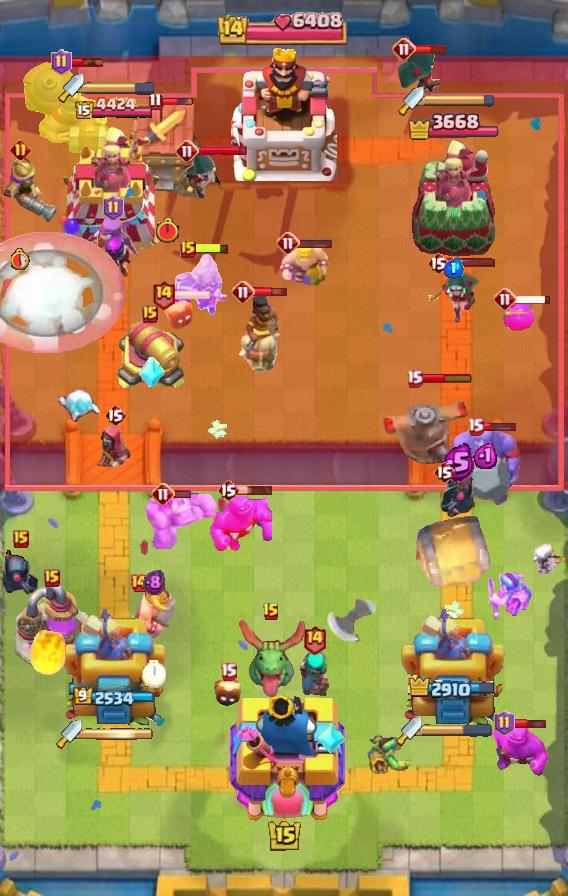axe: (327, 596, 383, 652)
bandit: (428, 267, 480, 327), (180, 148, 224, 202), (397, 46, 443, 94)
bar: (197, 144, 248, 157), (420, 372, 473, 384), (446, 257, 496, 268), (194, 242, 230, 255), (512, 717, 547, 730), (253, 285, 288, 298), (237, 484, 274, 496), (174, 289, 211, 301), (297, 237, 333, 249), (69, 56, 105, 68), (482, 420, 517, 432), (515, 294, 552, 305), (413, 44, 447, 55), (160, 97, 194, 107), (173, 489, 192, 499)
bar-level: (302, 624, 327, 655), (151, 279, 176, 310), (151, 482, 175, 506), (493, 287, 517, 311), (231, 280, 255, 304), (276, 231, 300, 255), (175, 139, 199, 163), (392, 37, 416, 61), (494, 710, 515, 736), (103, 195, 124, 221), (51, 49, 72, 75), (217, 478, 239, 502), (433, 460, 455, 484), (104, 403, 126, 427), (427, 251, 449, 275), (10, 139, 31, 160), (129, 573, 149, 593), (262, 602, 280, 622), (220, 662, 237, 681), (467, 417, 484, 436), (406, 369, 423, 388), (44, 569, 60, 587), (13, 530, 29, 548), (142, 305, 158, 323), (180, 240, 196, 258), (148, 92, 163, 111)
barbarian: (275, 239, 335, 285)
clock: (155, 217, 180, 244), (142, 660, 166, 688), (11, 248, 30, 270)
dagger-duchess-tower: (55, 126, 173, 256), (401, 601, 505, 731), (62, 601, 166, 731), (409, 138, 497, 256)
dagger-duchess-tower-bar: (82, 727, 154, 741), (424, 93, 496, 107), (84, 81, 156, 95), (422, 724, 492, 738)
elite-barbarian: (134, 584, 175, 639)
elixir: (441, 443, 475, 482), (473, 441, 497, 469), (143, 569, 165, 596), (444, 258, 464, 279)
elixir-golem-mid: (210, 492, 272, 552), (487, 724, 551, 778)
elixir-golem-small: (502, 301, 534, 331)
fire-spirit: (165, 299, 195, 331), (214, 679, 242, 709)
golemite: (143, 491, 218, 551)
ice-spirit: (57, 387, 103, 423)
ice-spirit-evolution-symbol: (317, 721, 345, 755), (138, 357, 164, 389)
king-tower: (223, 689, 345, 826), (231, 45, 337, 181)
king-tower-bar: (217, 11, 351, 45)
mini-pekka: (0, 546, 42, 600), (438, 471, 478, 523)
mother-witch: (85, 215, 141, 281)
musketeer: (0, 154, 58, 224)
ram-rider: (237, 293, 283, 373)
rascal-girl: (297, 651, 331, 699)
skeleton: (530, 544, 567, 580)
spear-goblin: (485, 572, 533, 624), (366, 733, 414, 775)
tower-bar: (407, 109, 499, 145), (408, 675, 498, 702), (74, 96, 154, 122), (73, 687, 155, 708)
valkyrie-evolution: (169, 253, 229, 319)
wizard: (97, 424, 133, 470)
